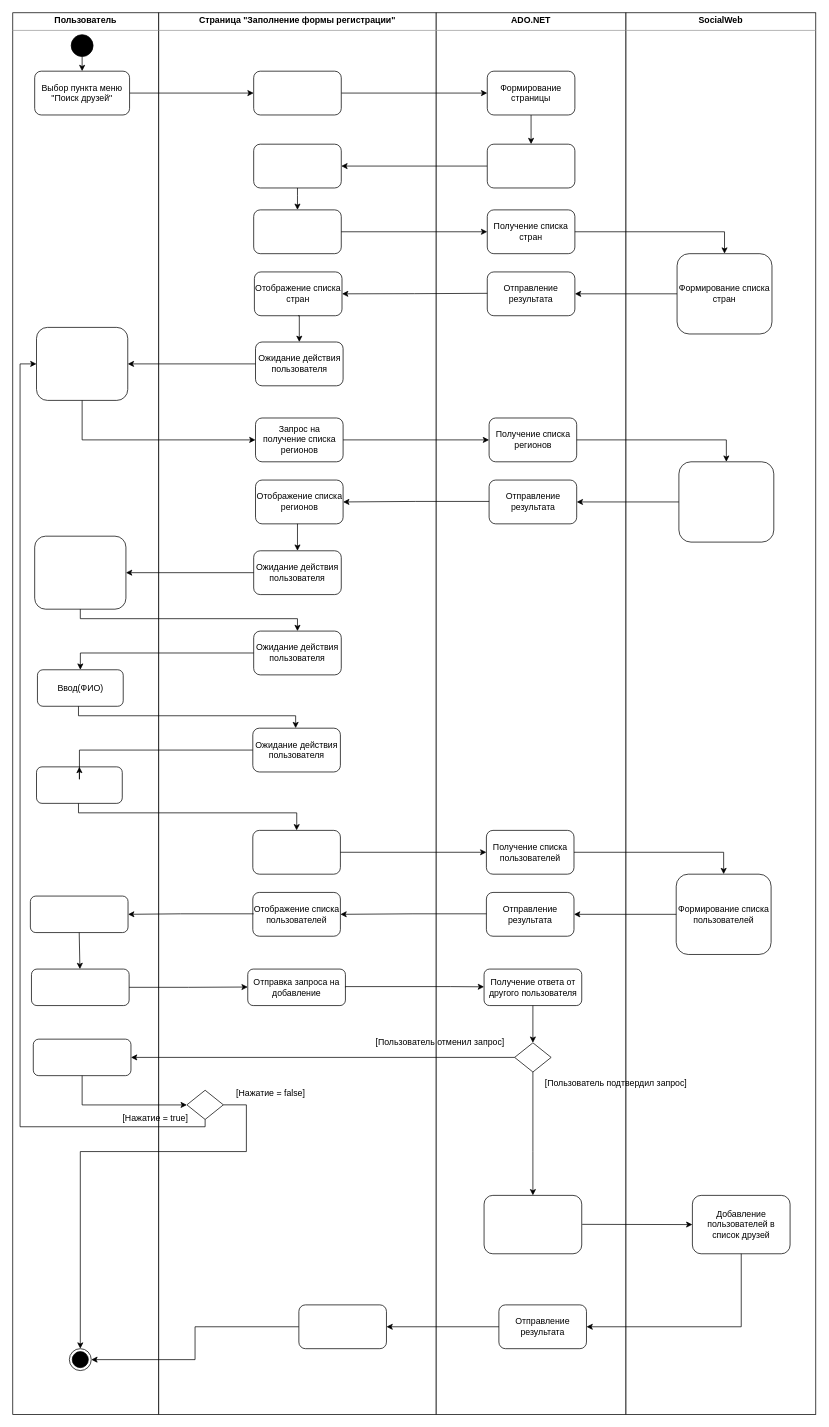
This 829x1427 diagram has some shape labels left out. Here are the shapes that lost their labels. From the top down, the centre of each, then its label:
[297,92]: Запрос страницы от сервера
[297,165]: Отображение страницы
[531,165]: Отправка страницы
[297,231]: Запрос на получение списка стран
[82,363]: Выбор(Страна поиска)
[726,501]: Формирование списка регионов
[80,572]: Выбор(Регион поиска)
[79,784]: Ввод(Возраст)
[296,852]: Запрос на получение списка пользователей
[79,914]: Выбор пользователя
[80,987]: Нажатие кнопки "Добавить в друзья"
[82,1057]: Нажатие кнопки "Обновить"
[532,1224]: Запрос на добавление пользователя в список друзей
[342,1326]: Вывод сообщения "Пользователь добавлен в друзья"
